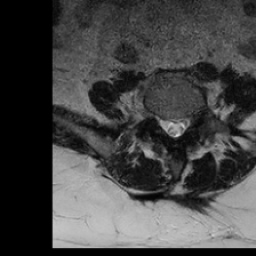CCS_normal: (171, 108, 178, 145)
LFS_normal: (187, 106, 196, 134)
LLS_normal: (178, 108, 187, 140)
RFS_stenosis: (154, 106, 162, 136)
RLS_normal: (162, 109, 171, 141)
